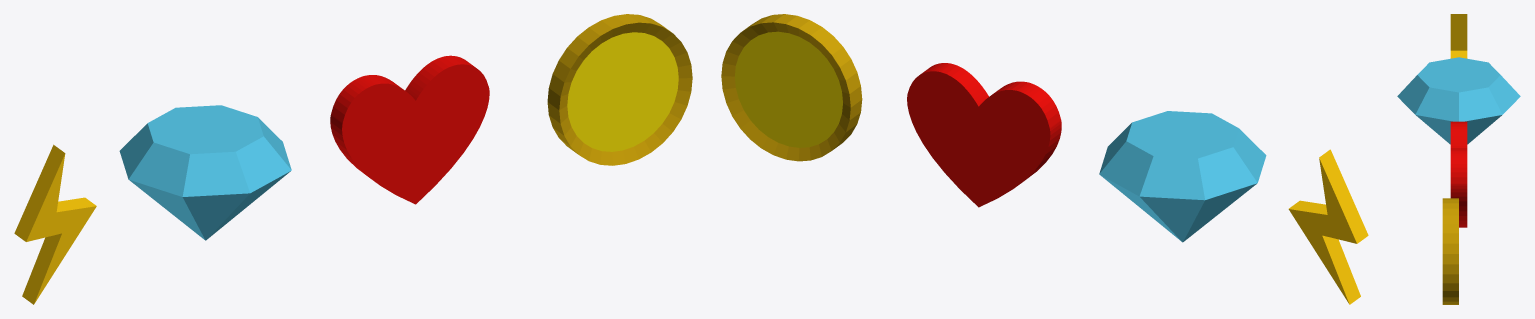
The model's file is collectable_lowpoly_animated_items_for_games.glb.
The picture shows the model from 3 angles, left to right: view 1: azimuth 30°, elevation 25°; view 2: azimuth 150°, elevation 25°; view 3: azimuth 270°, elevation 25°; orthographic projection. The views are drawn at different scales.
Visible parts, largest first — view 1: coin, heart, diamond, light; view 2: coin, heart, diamond, light; view 3: diamond, coin, heart, light.
Part boxes in pixels (left/top/right/bottom): coin: left=547, top=14, right=692, bottom=165; heart: left=330, top=55, right=489, bottom=204; diamond: left=119, top=105, right=291, bottom=240; light: left=14, top=144, right=96, bottom=304; coin: left=721, top=14, right=862, bottom=161; heart: left=907, top=63, right=1061, bottom=207; diamond: left=1099, top=111, right=1266, bottom=242; light: left=1288, top=149, right=1368, bottom=304; diamond: left=1397, top=57, right=1520, bottom=144; coin: left=1442, top=198, right=1458, bottom=304; heart: left=1450, top=121, right=1467, bottom=227; light: left=1450, top=14, right=1467, bottom=58.
Size of the model in its own units: 64.69 by 13.48 by 15.12.
